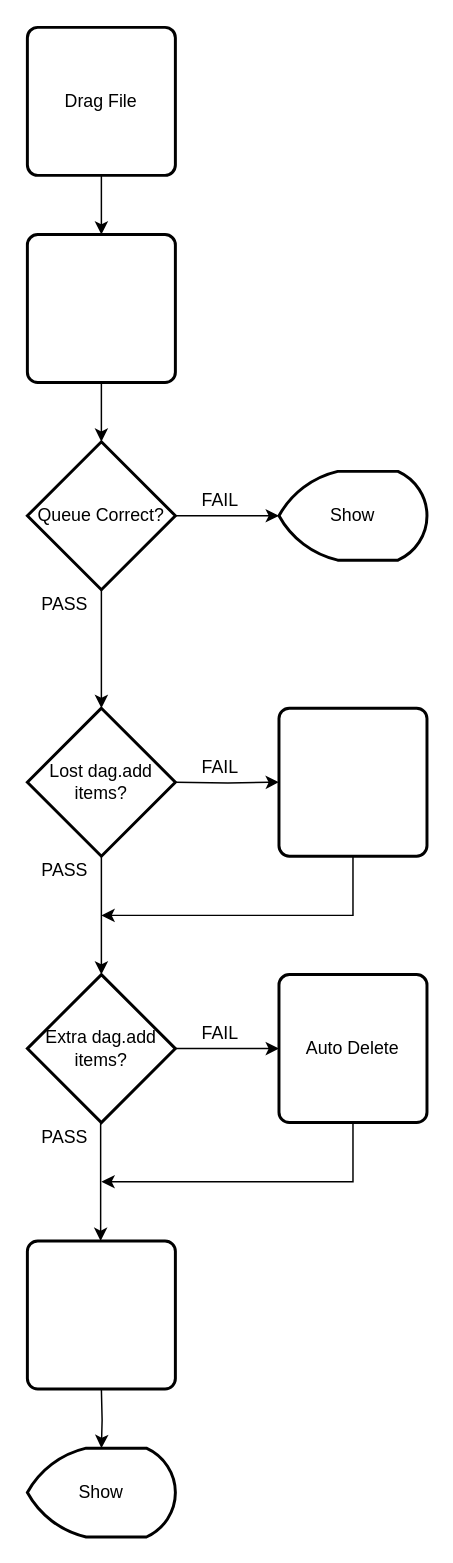
The diagram is 453 pixels wide and 1563 high, and some of its shapes have lost their labels. The shapes that lost their labels are listed below. From the top down, each one's centre as x and y in pixels, then its label:
At point 100,307: "Click Button".
At point 352,781: "Auto Add".
At point 100,1314: "Check Duplicate dag.add".
